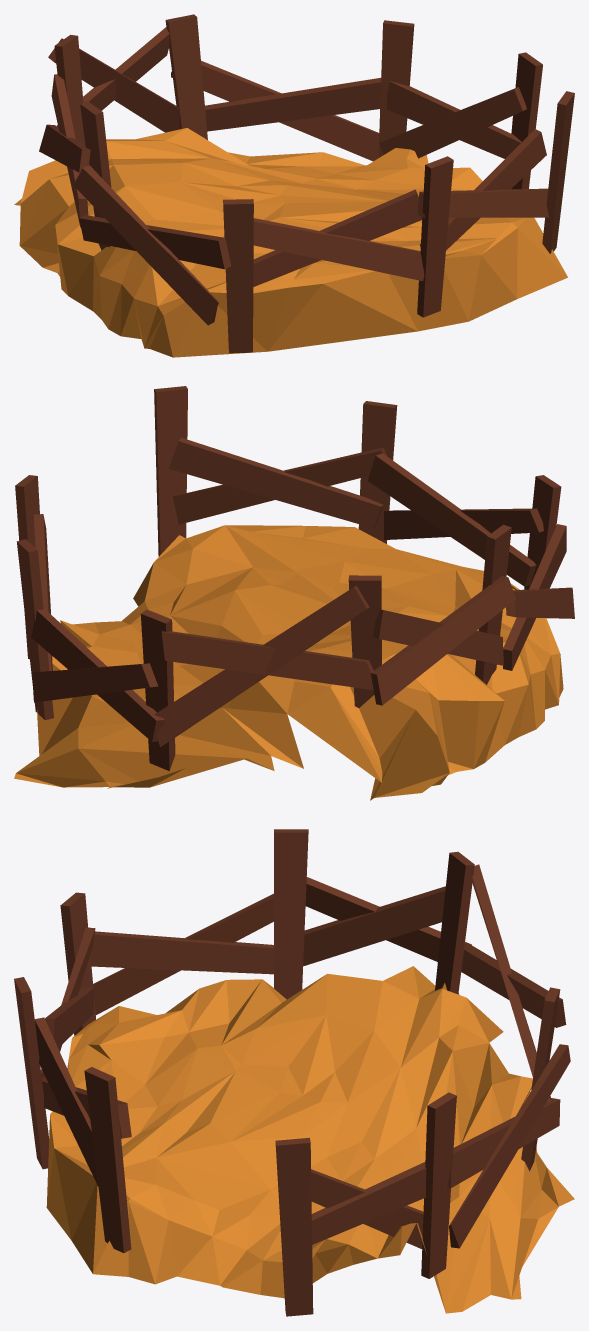
The model's file is GRANJA.FBX.
3 renders of one model, top to bottom at view 1: azimuth 30°, elevation 25°; view 2: azimuth 150°, elevation 25°; view 3: azimuth 270°, elevation 25°, orthographic. The views are drawn at different scales.
Visible parts, largest first — view 1: Object006, Object009; view 2: Object009, Object006; view 3: Object009, Object006.
Part boxes in pixels (left/top/right/bottom): Object006: left=39, top=14, right=574, bottom=353; Object009: left=14, top=128, right=567, bottom=357; Object009: left=14, top=525, right=563, bottom=800; Object006: left=15, top=386, right=574, bottom=771; Object009: left=46, top=966, right=574, bottom=1313; Object006: left=14, top=829, right=570, bottom=1316.
Size of the model in its own units: 130 by 66.59 by 119.
